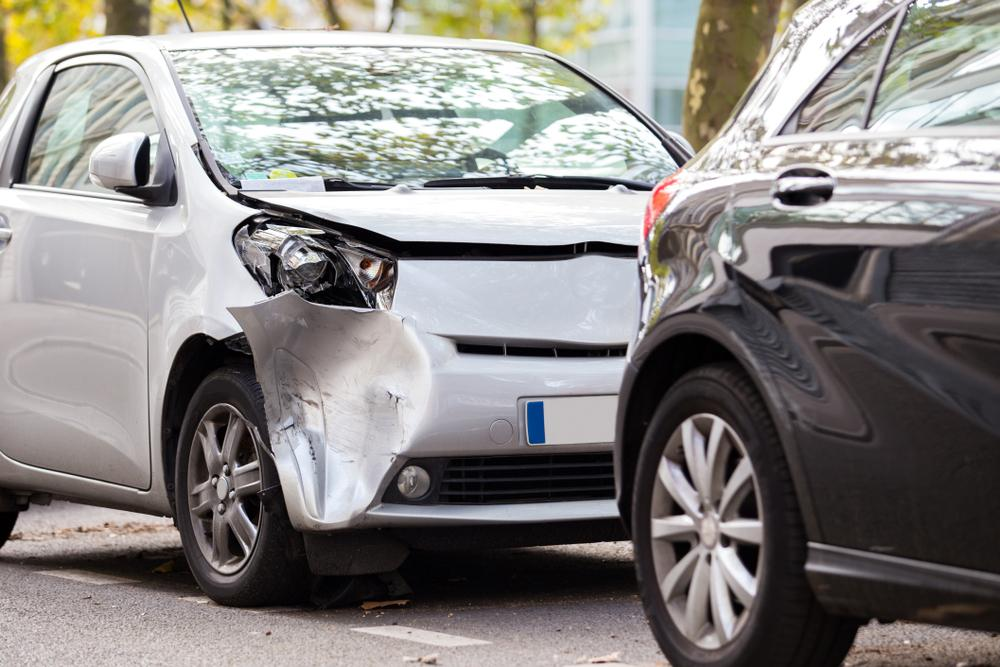dent: (252, 299, 431, 519)
lamp broken: (233, 217, 395, 316)
